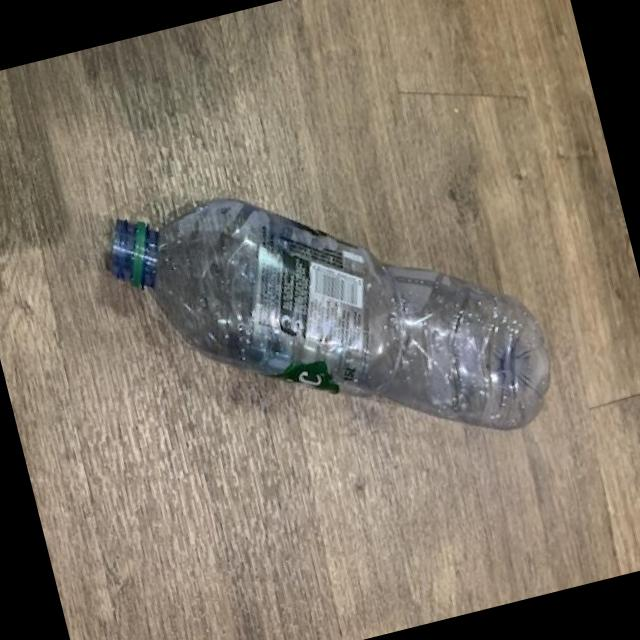plastic_bottle: (97, 123, 566, 514)
